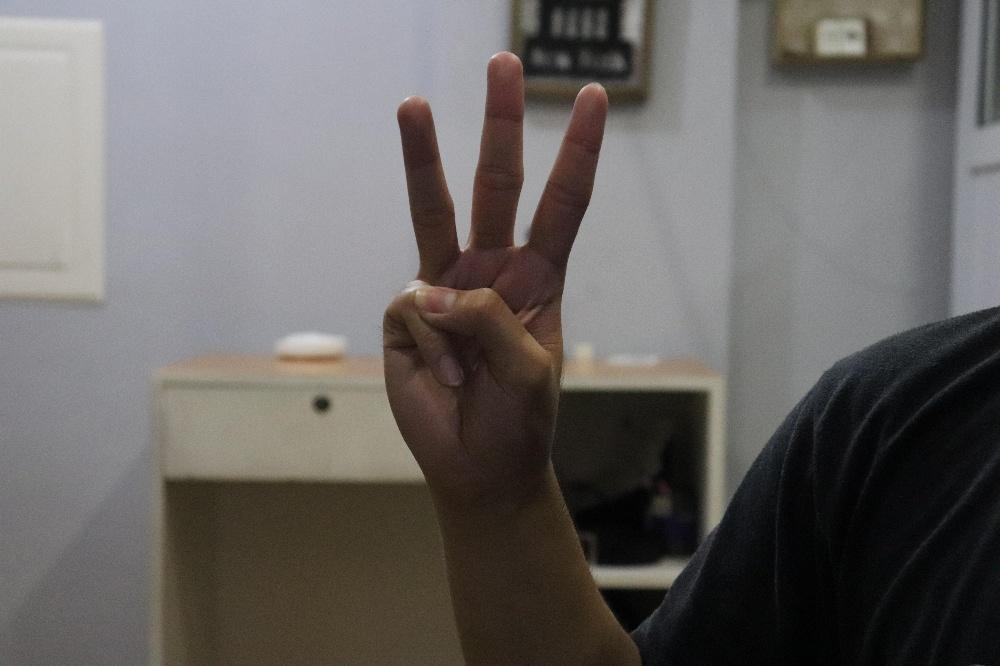w: (382, 48, 608, 502)
